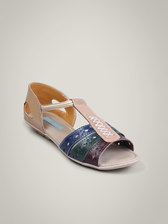shoes: (19, 79, 141, 169)
